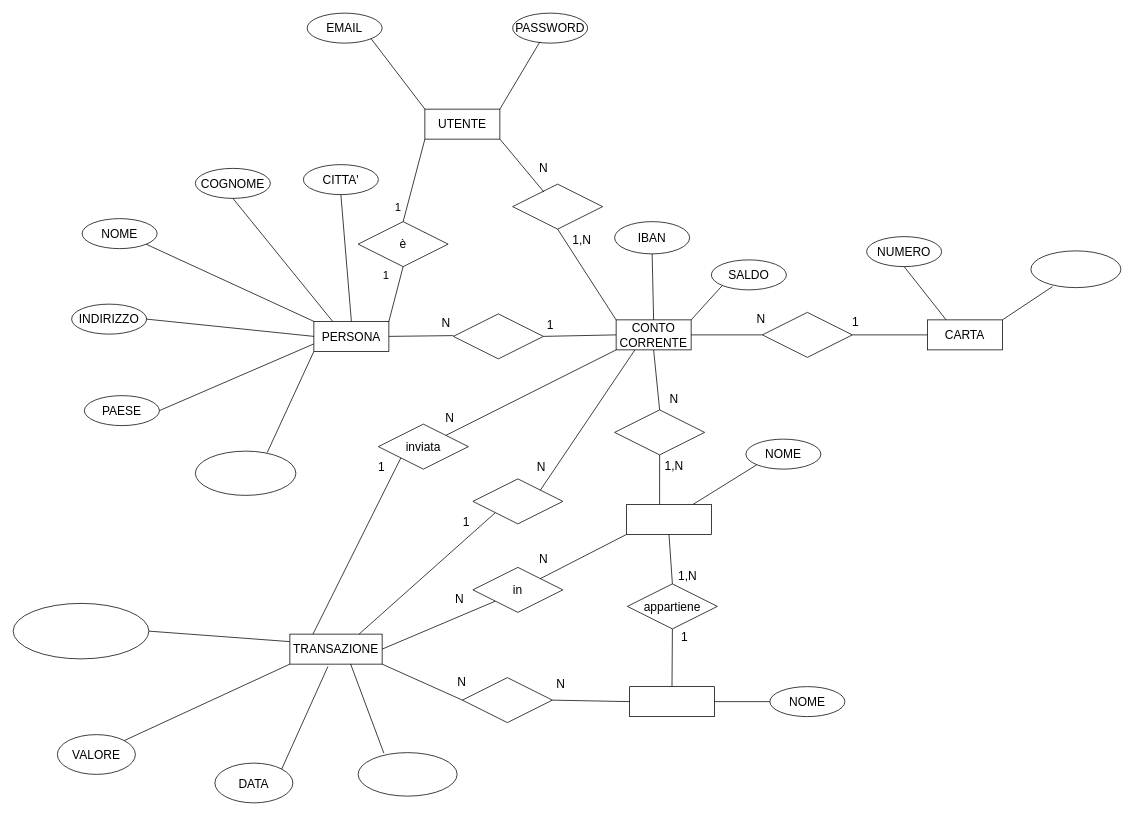
Some shapes in this 1134 by 816 pixel diagram are drawn without their labels. The centre of each missing label's shape, as x and y in pixels:
associata: point (807, 334)
CATEGORIA: point (671, 701)
CODICE FISCALE: point (245, 472)
collegata: point (659, 432)
DESCRIZIONE: point (407, 774)
gestisce: point (557, 206)
PORTAFOGLI: point (668, 519)
possiede: point (498, 336)
ricevuta: point (517, 501)
riguarda: point (507, 700)
TIPO_CARTA: point (1075, 269)
TIPO_TRANSAZIONE: point (80, 631)
